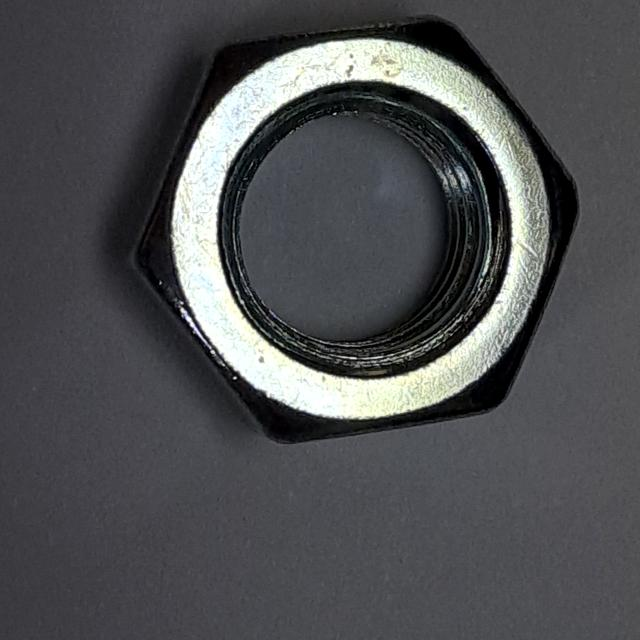Excellent: (105, 4, 599, 464)
